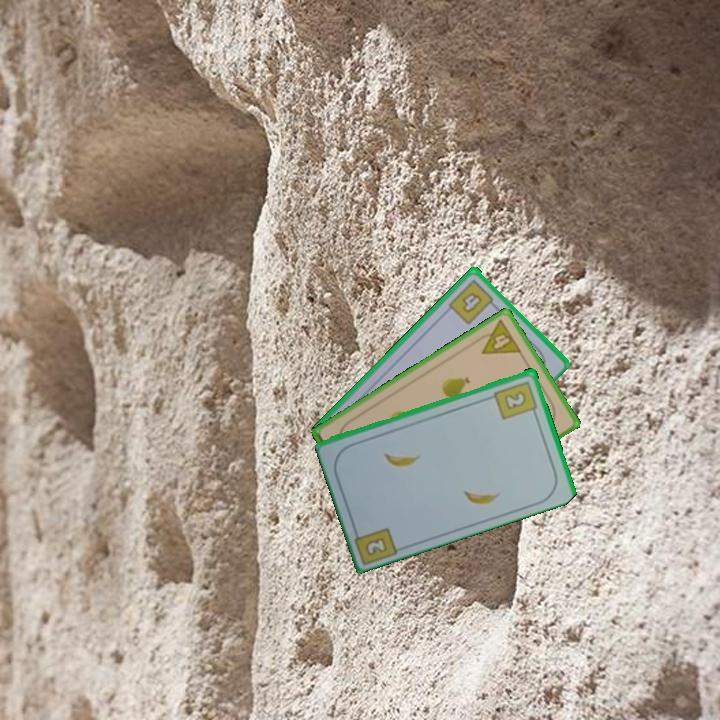2b: (350, 522, 402, 566), (491, 377, 540, 422)
4b: (445, 275, 500, 327)
4p: (471, 316, 524, 357)
